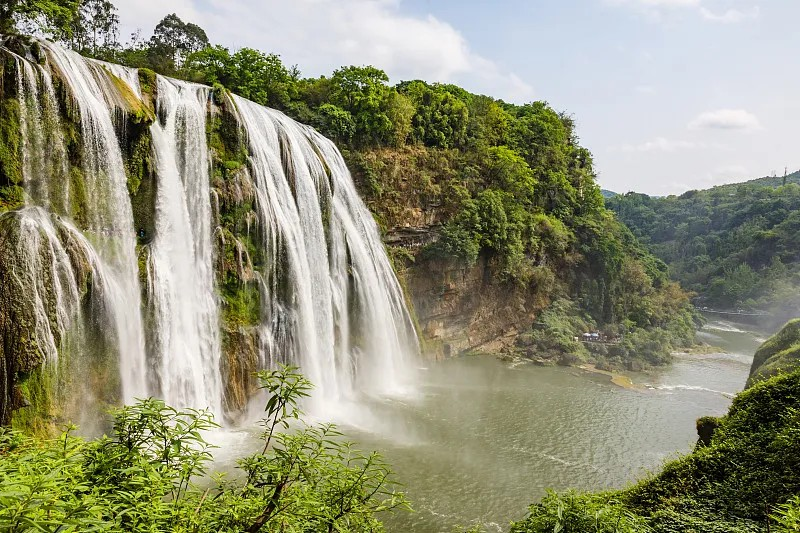Huangguoshu: (2, 37, 425, 440)
